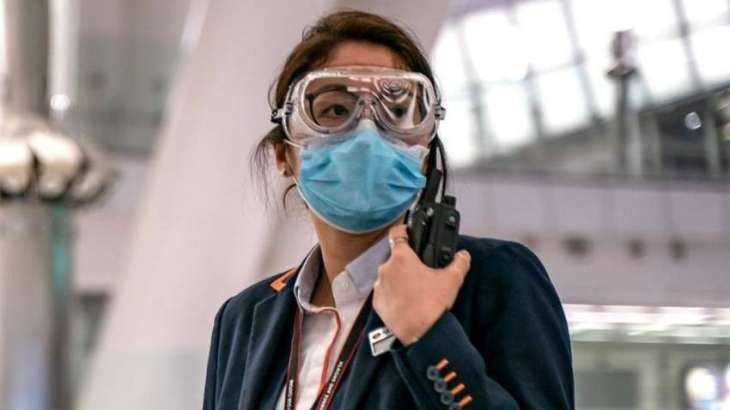face_with_mask: (269, 37, 452, 254)
